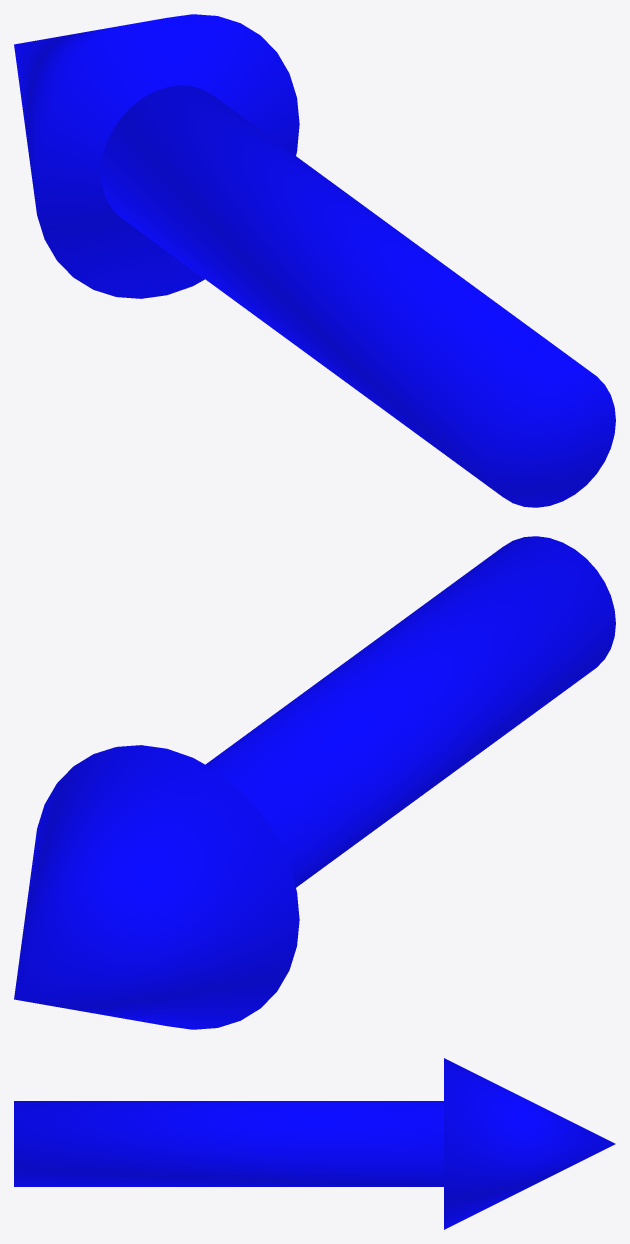
The model's file is blue_arrow.glb.
3 renders of one model, top to bottom at view 1: azimuth 30°, elevation 25°; view 2: azimuth 150°, elevation 25°; view 3: azimuth 270°, elevation 25°, orthographic. The views are drawn at different scales.
Visible parts, largest first — view 1: Z Arrow; view 2: Z Arrow; view 3: Z Arrow.
Boxes of the visible parts, <box> form: Z Arrow: <box>14,14,615,507</box>; Z Arrow: <box>14,536,615,1029</box>; Z Arrow: <box>14,1058,615,1229</box>.
Size of the model in its own units: 0.4 by 0.4 by 1.4.
